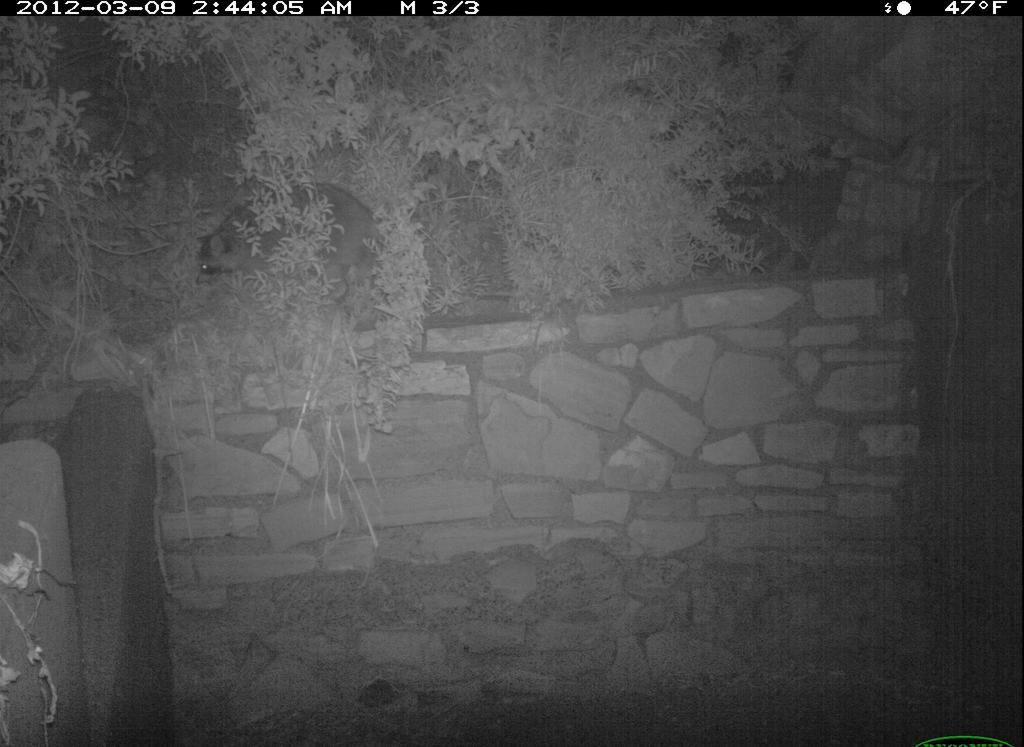raccoon: (189, 179, 402, 313)
